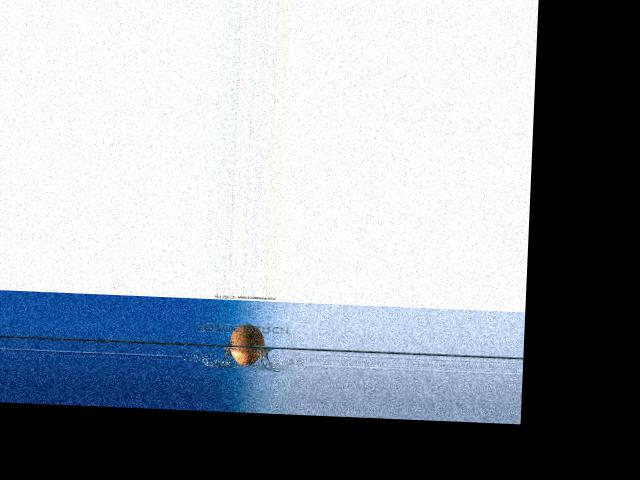egg: (229, 323, 265, 366)
